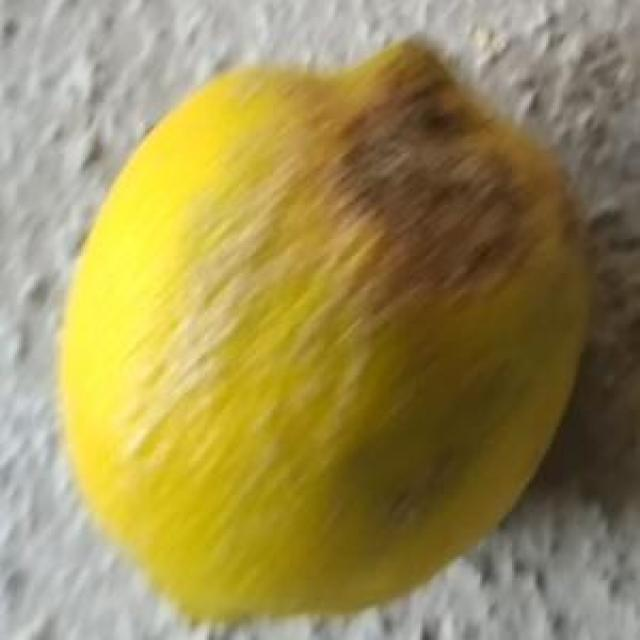lemon: (58, 39, 586, 640)
